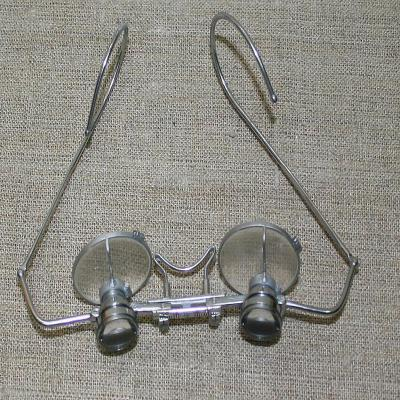other: (16, 14, 357, 358)
